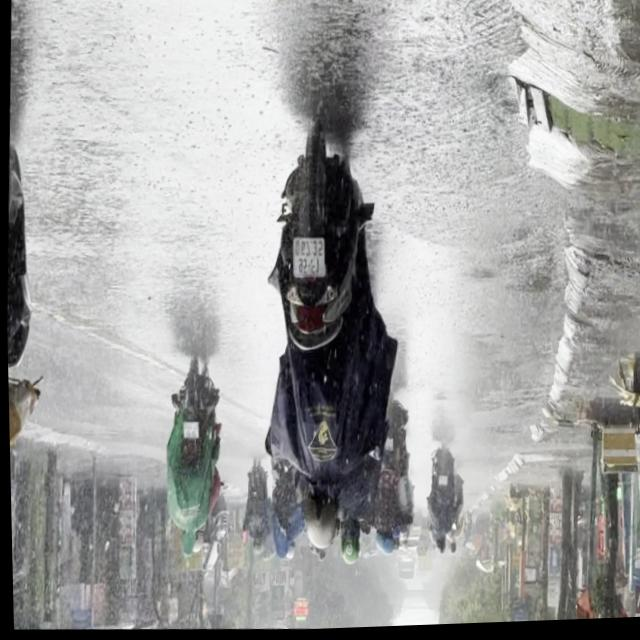helmet: (298, 485, 337, 555), (334, 524, 360, 570), (371, 529, 392, 562), (176, 531, 193, 561)
licenseplate: (249, 124, 402, 575), (2, 88, 50, 550), (155, 358, 225, 564)
nohelmet: (290, 240, 323, 280), (180, 423, 196, 442)
